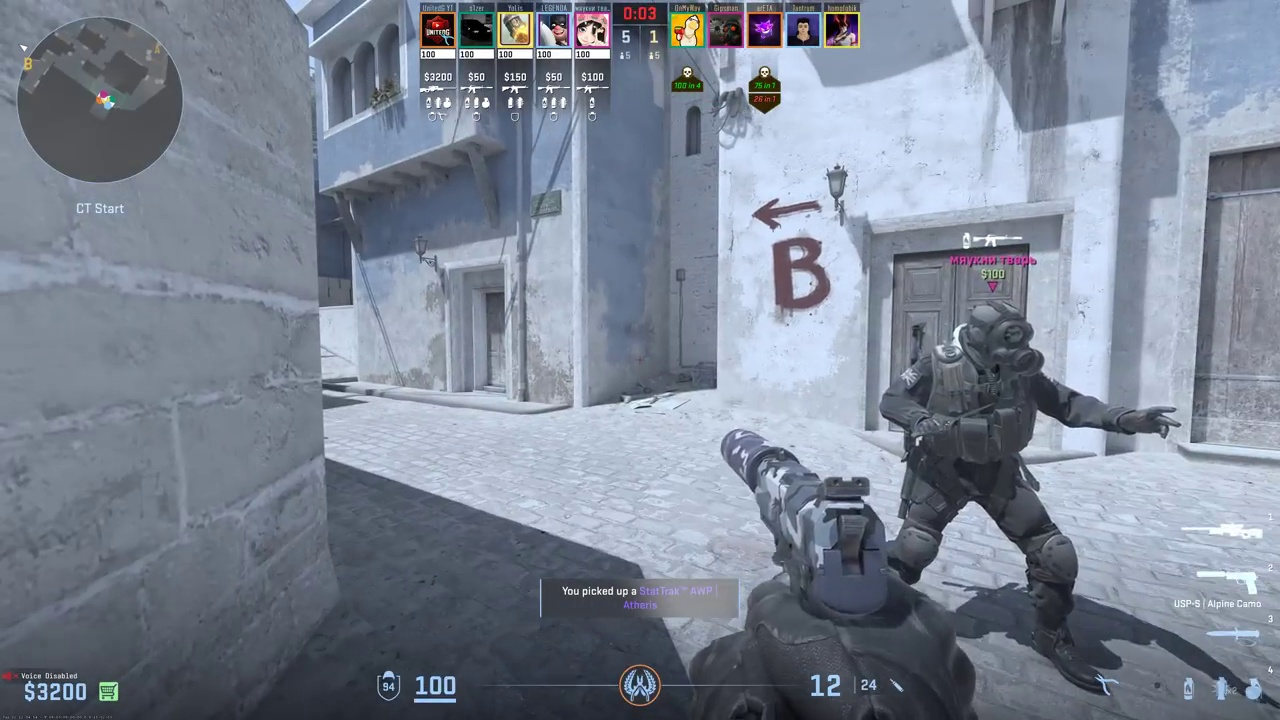CT: (894, 302, 1083, 657)
